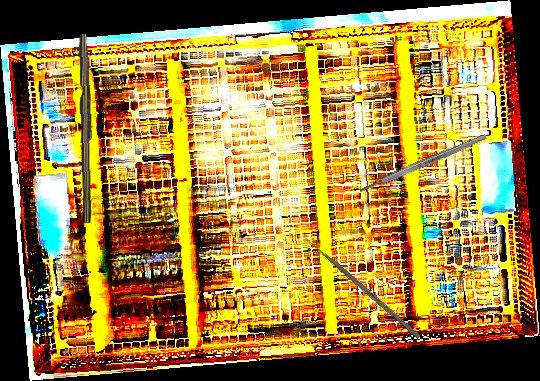Pusher: (296, 230, 422, 339)
Scalpel Handle: (358, 133, 488, 194), (75, 33, 98, 224)
